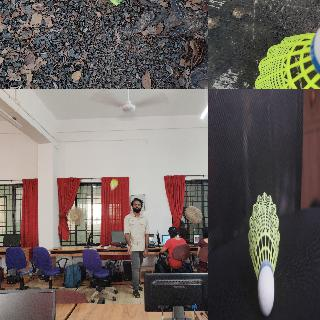shuttlecock: (255, 13, 319, 88), (248, 192, 279, 314), (86, 0, 128, 7), (110, 179, 118, 189)
